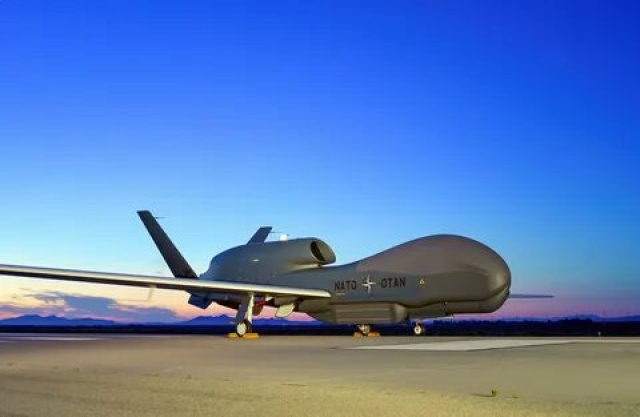military drone: (0, 210, 555, 337)
